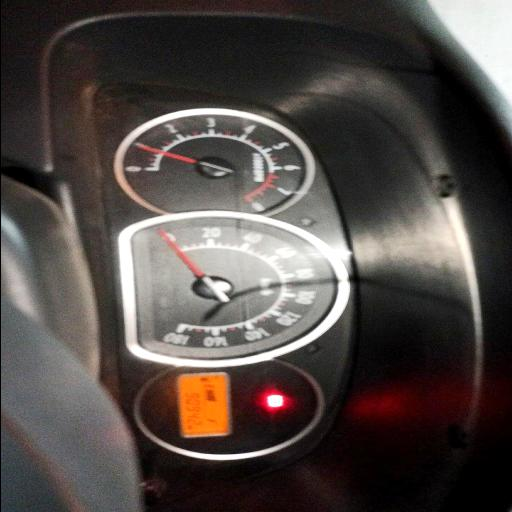tachometer: (113, 106, 316, 214)
